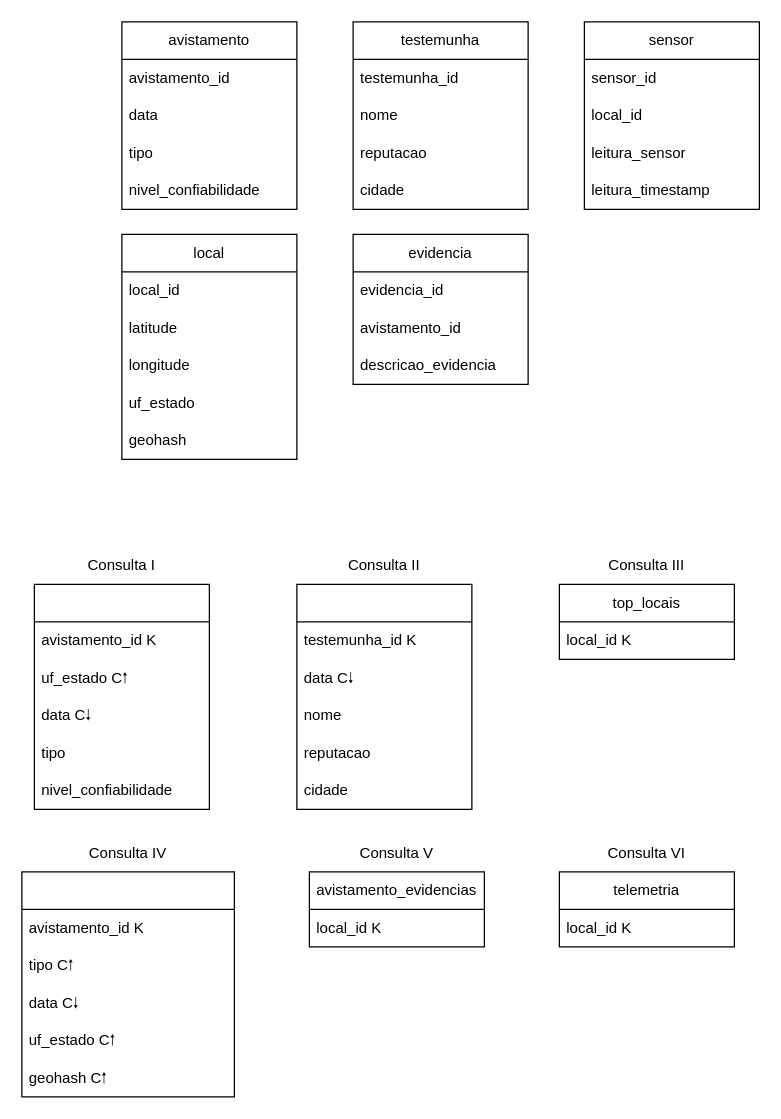
This 781x1119 diagram has some shape labels left out. Each missing label, with the box of its shape:
avistamentos_por_uf: (33, 583, 209, 809)
avistamentos_tipo_regiao_dia: (21, 871, 234, 1097)
timeline_testemunha: (296, 583, 472, 809)
